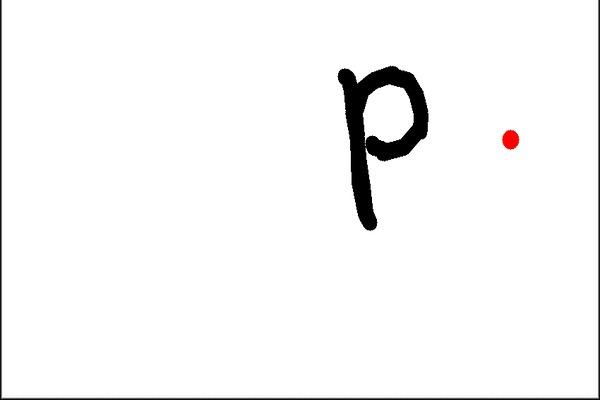P: (322, 49, 438, 238)
